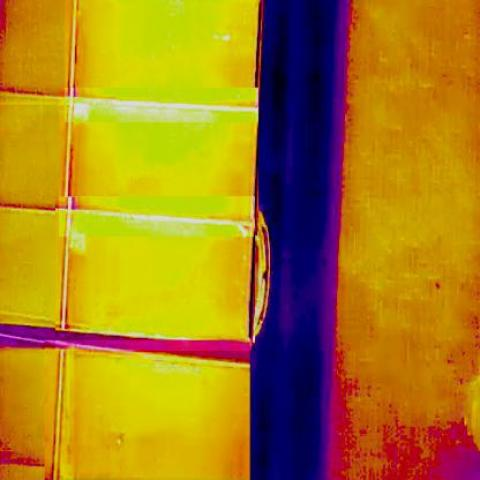fault: (72, 100, 94, 124)
